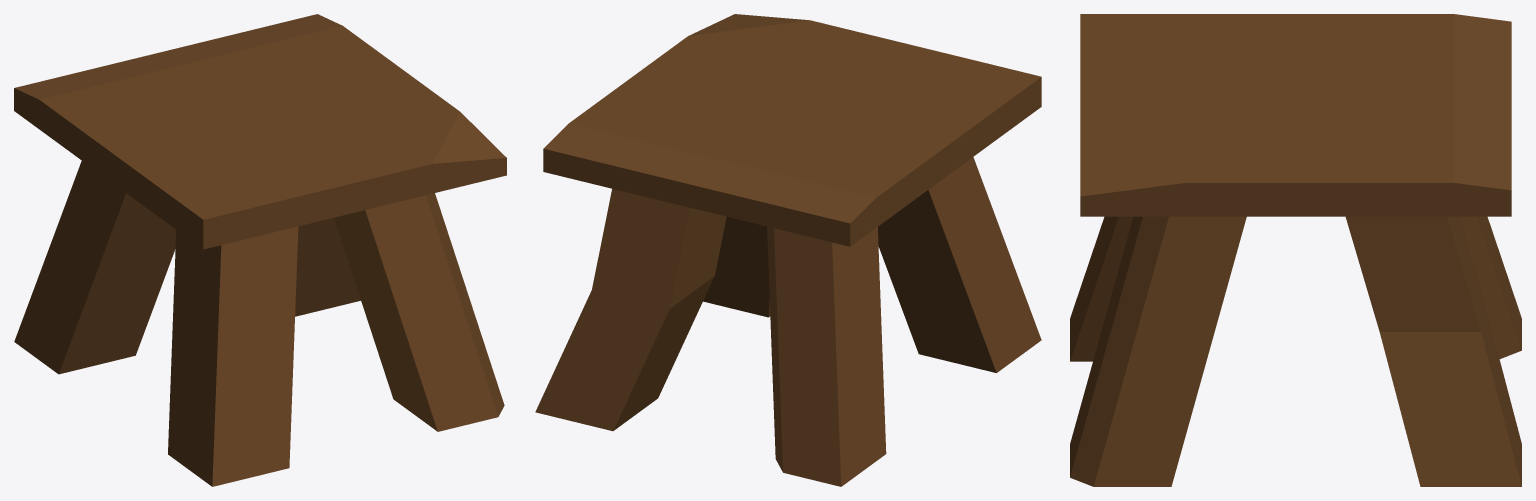
The model's file is Stool.fbx.
The picture shows the model from 3 angles, left to right: view 1: azimuth 30°, elevation 25°; view 2: azimuth 150°, elevation 25°; view 3: azimuth 270°, elevation 25°; orthographic projection. The views are drawn at different scales.
Visible parts, largest first — view 1: Cube.014; view 2: Cube.014; view 3: Cube.014.
Part boxes in pixels (left/top/right/bottom): Cube.014: left=14, top=14, right=506, bottom=486; Cube.014: left=535, top=14, right=1041, bottom=486; Cube.014: left=1070, top=14, right=1521, bottom=486.
Bounding box in the file's own units: 33.75 × 27.82 × 37.72.
